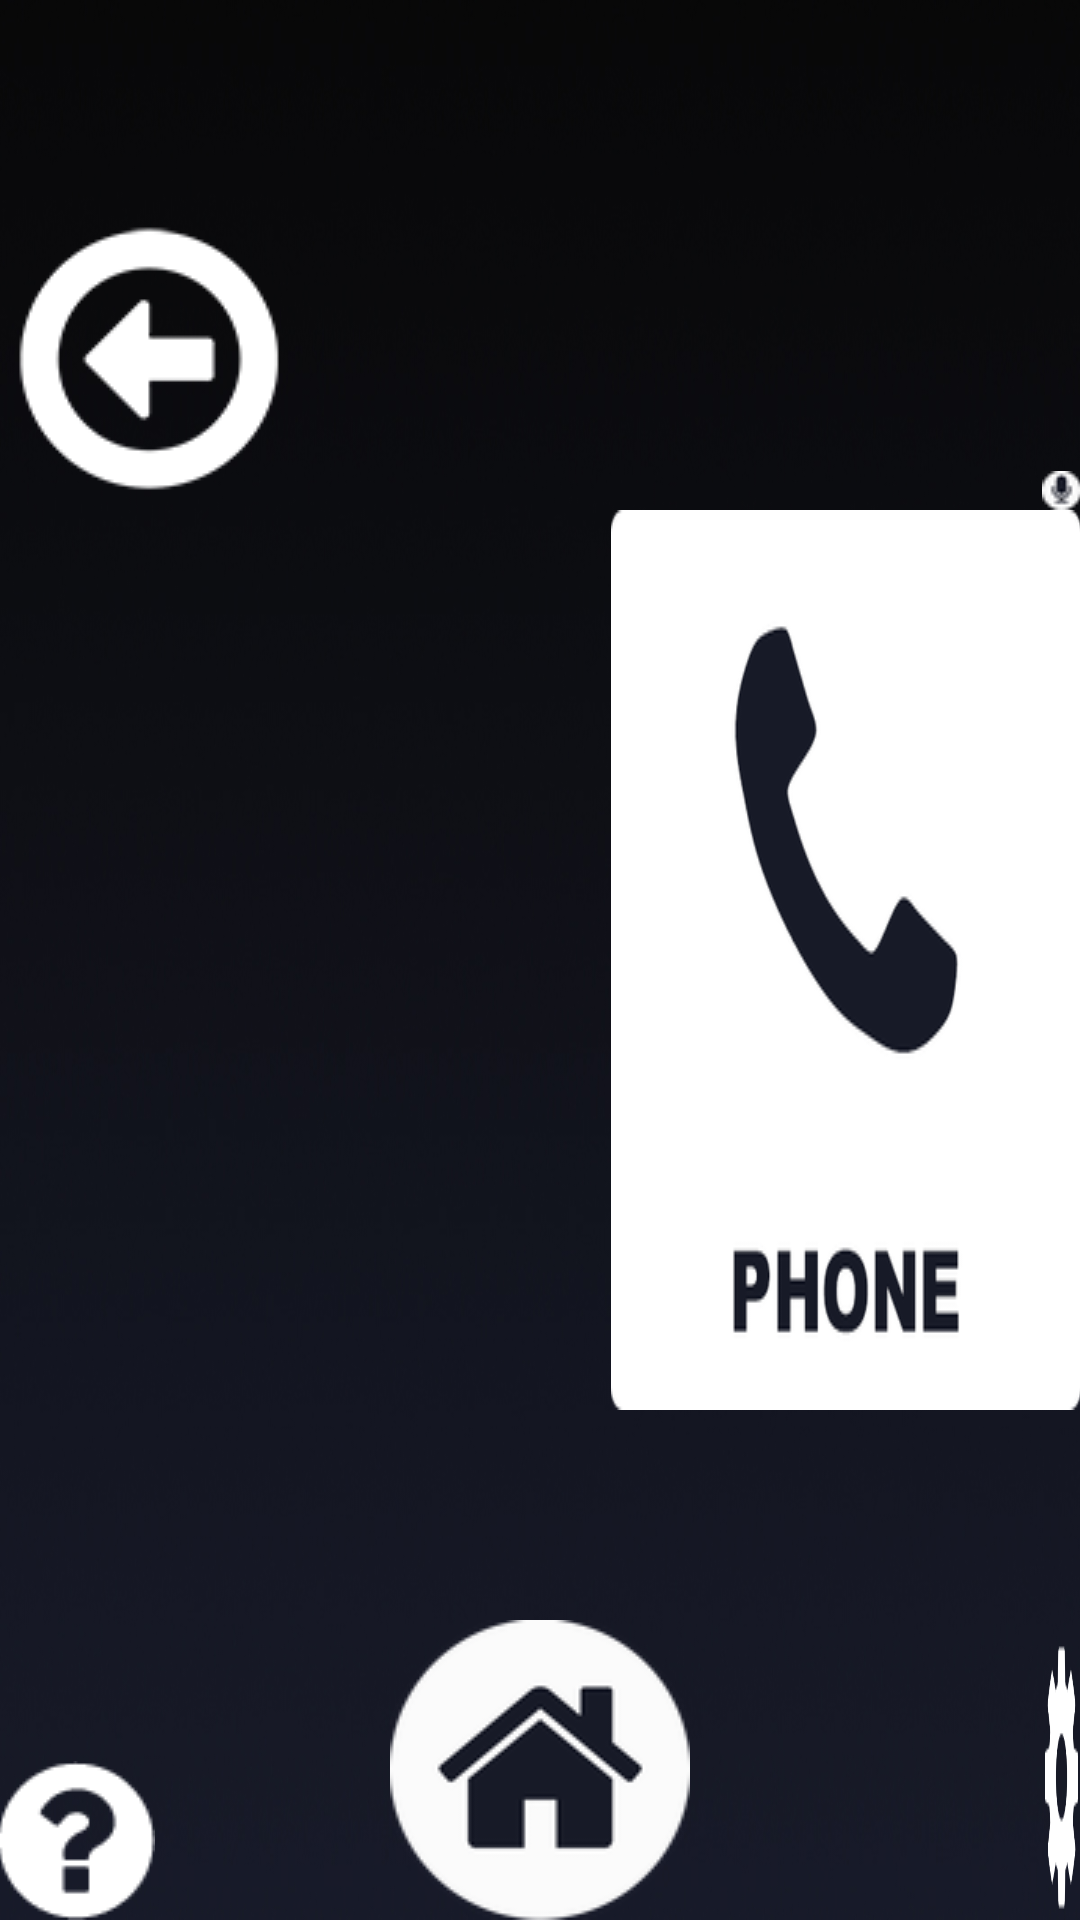

Screen size 1080px×1920px. Icon name, then its center in pixels as (x,y):
back: (149,358)
help: (77,1840)
home rsz: (540,1770)
mic: (1061,490)
